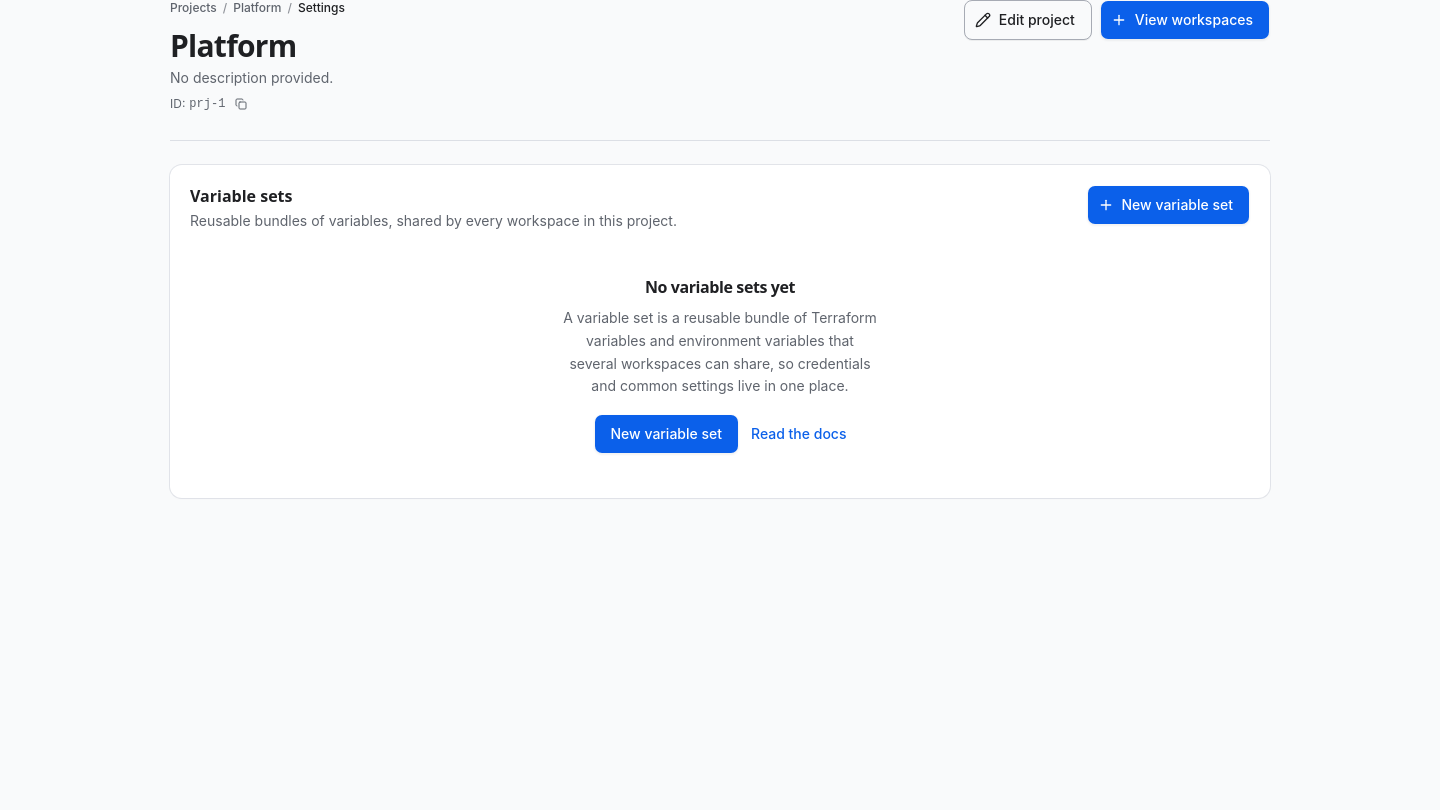
Test: creates a project variable set from the project detail settings
The width and height of the screenshot is (1440, 810).
Click the 1st button "New variable set".
click(1168, 205)  # box [1086,185,1250,225]
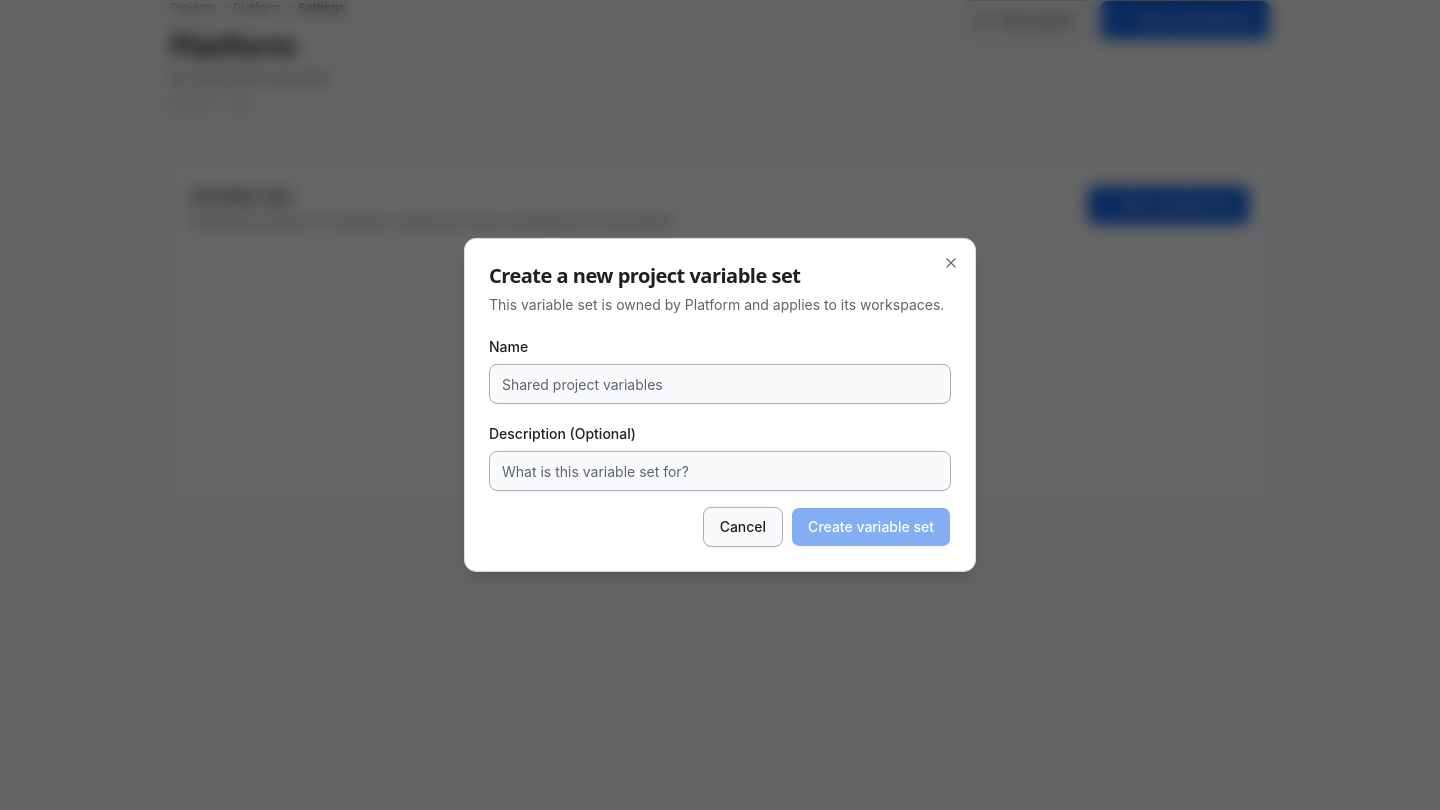
Check: the heading "Create a new project variable set" is shown, box [489,262,800,289]
Type "Shared" into the field labelled "Name".
click(720, 384); type("Shared")  # box [489,364,951,404]
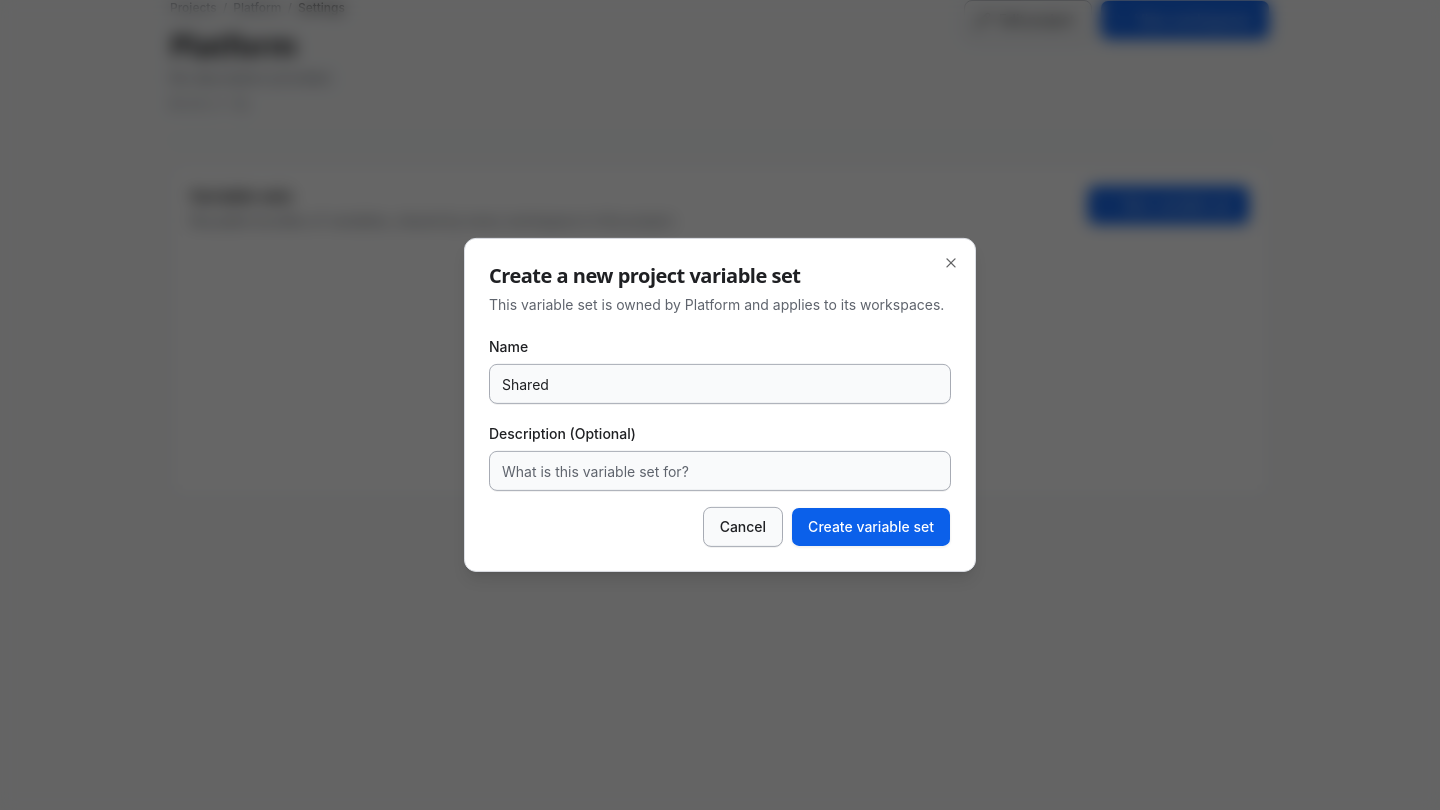
Type "Shared values" into the field labelled "Description (Optional)".
click(720, 471); type("Shared values")  # box [489,451,951,491]
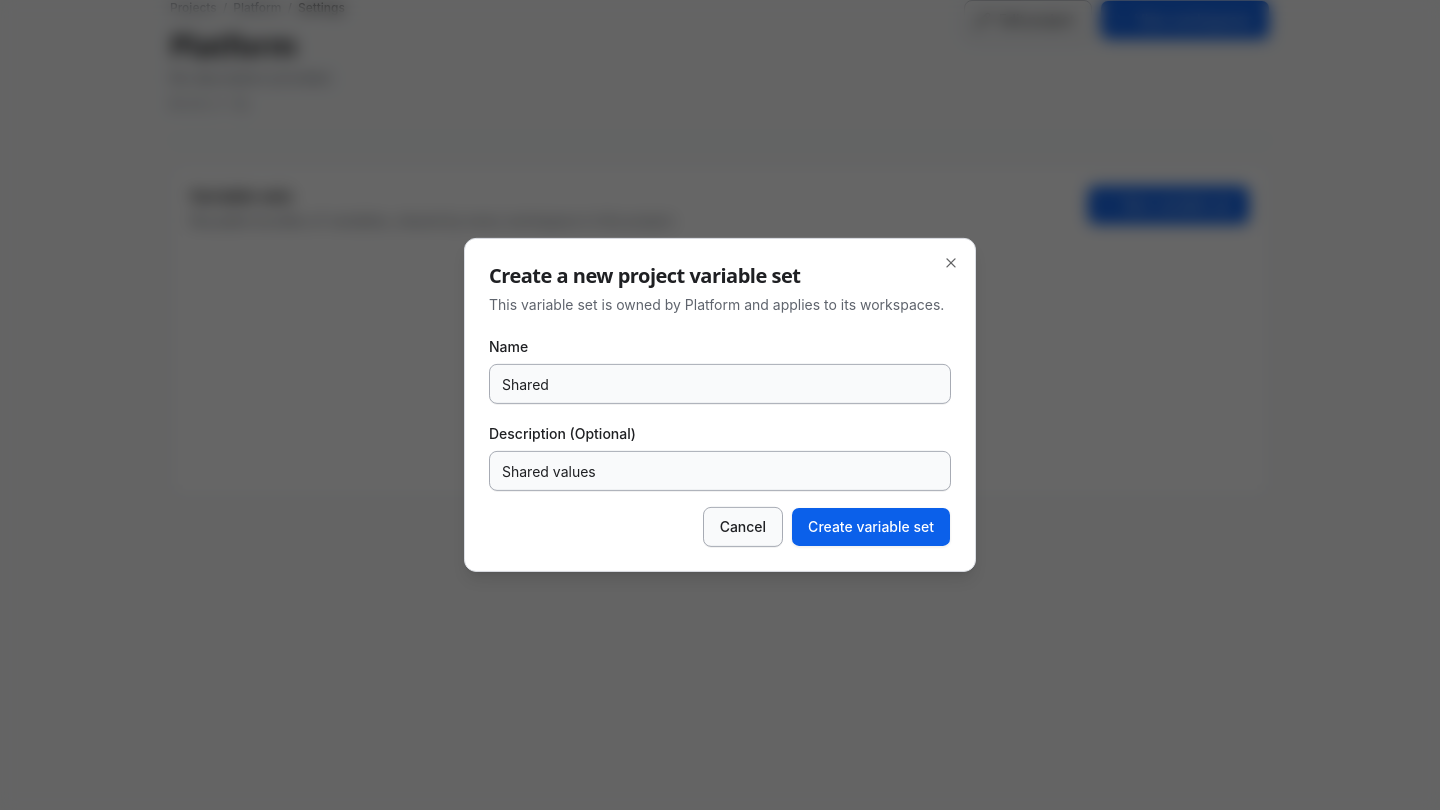
Check: the form "Create variable set" is shown
Submit the form "Create variable set", box [489,337,951,547]
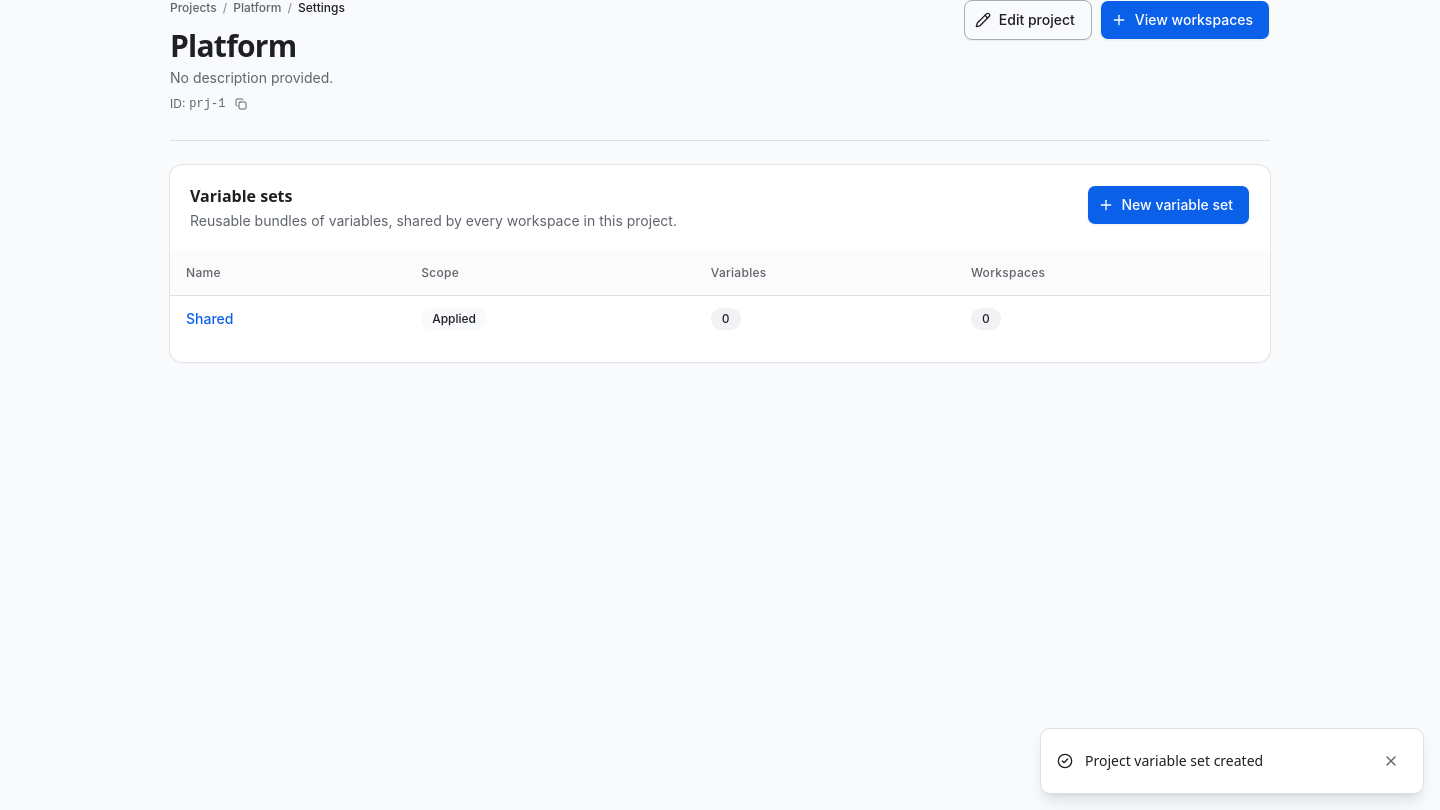
Check: the text "prj-1" is shown, box [189,96,225,112]
Check: the link "Shared" is shown, box [186,310,234,326]
